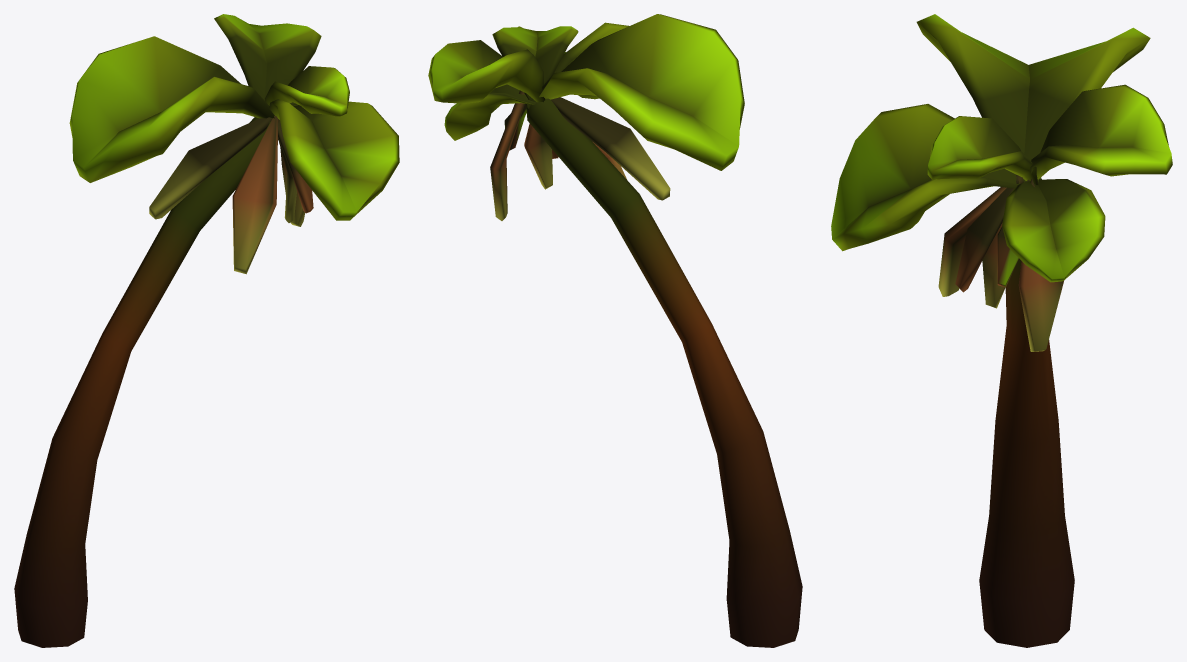
Rendered from Palm_06.fbx.
3 views of the same model, side by side, from view 1: azimuth 30°, elevation 25°; view 2: azimuth 150°, elevation 25°; view 3: azimuth 270°, elevation 25° (orthographic). The views are drawn at different scales.
Visible parts, largest first — view 1: Palm_06; view 2: Palm_06; view 3: Palm_06.
Part boxes in pixels (box(x1,y1,x2,y2)): Palm_06: box(14, 14, 399, 647); Palm_06: box(428, 14, 802, 647); Palm_06: box(831, 14, 1172, 647).
Bounding box in the file's own units: 3096 × 4934 × 2236.
